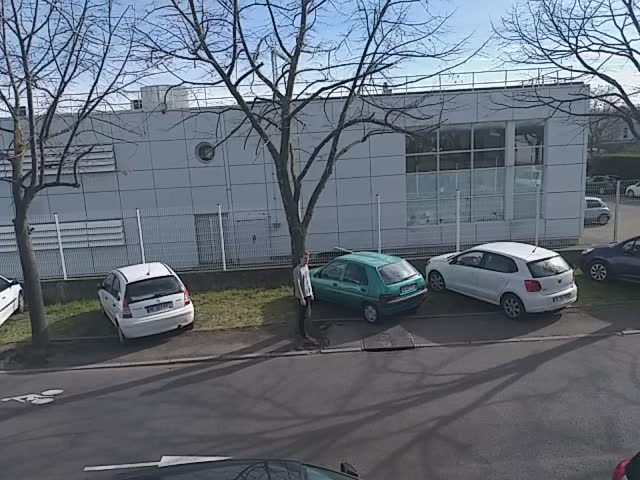persona: (286, 248, 321, 353)
